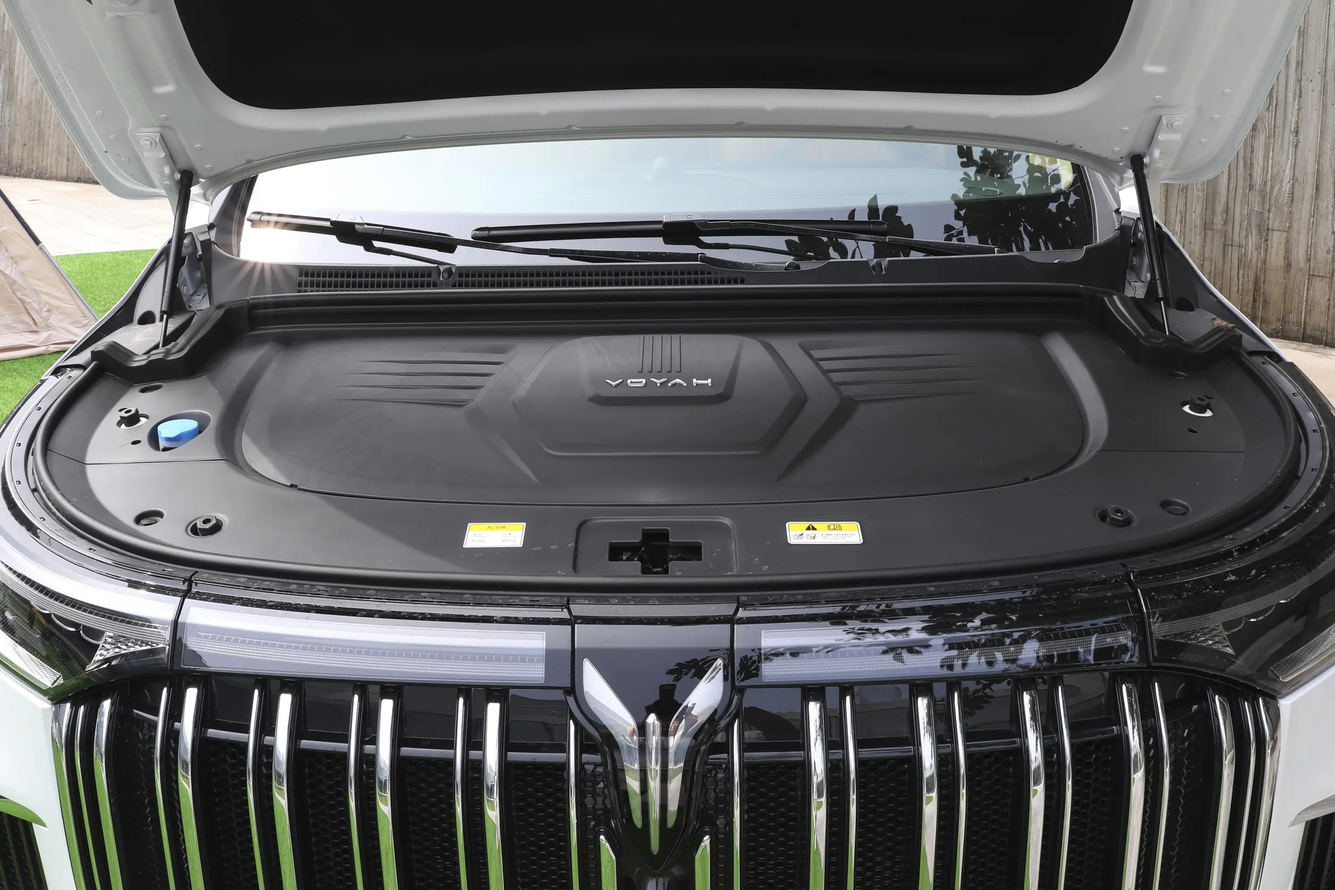VOYAH: (583, 658, 723, 854)
